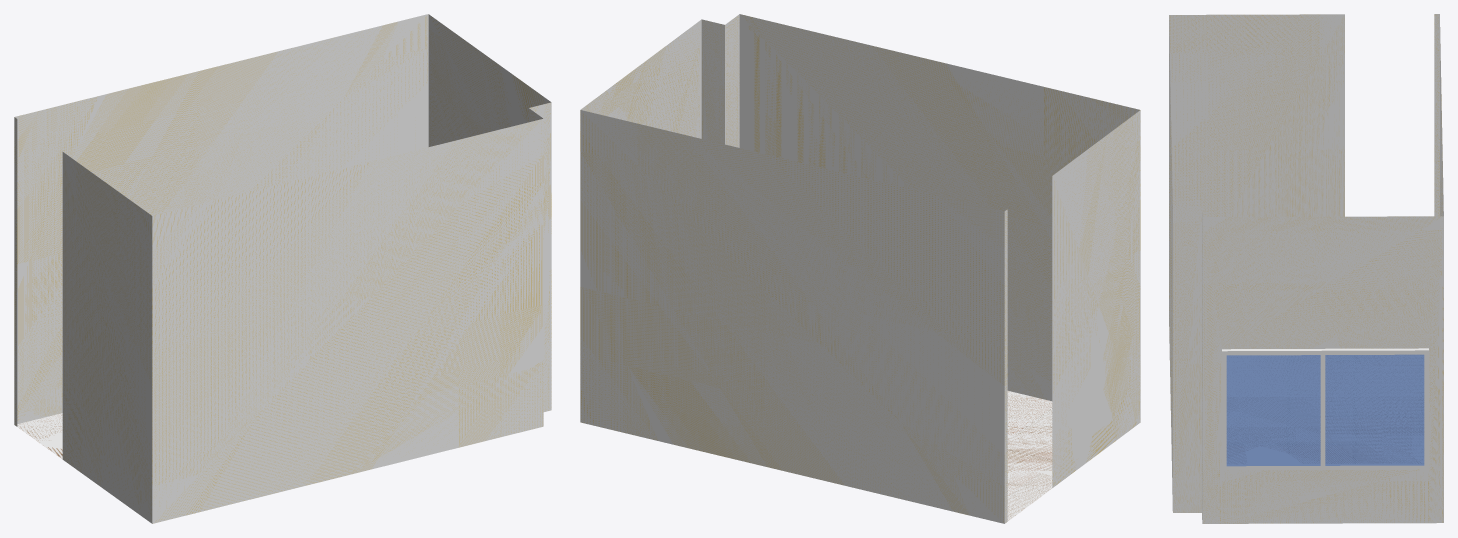
Rendered from DES005.obj.
The picture shows the model from 3 angles, left to right: view 1: azimuth 30°, elevation 25°; view 2: azimuth 150°, elevation 25°; view 3: azimuth 270°, elevation 25°; orthographic projection.
Parts seen in each view (by area): view 1: Mesh6 CUA05 Model; view 2: Mesh6 CUA05 Model; view 3: Mesh6 CUA05 Model, Mesh1 ventana2_1 CUA05 Model.
Boxes of the visible parts, box(x1,y1,x2,y2) form: Mesh6 CUA05 Model: box(14, 14, 551, 523); Mesh6 CUA05 Model: box(580, 14, 1140, 523); Mesh6 CUA05 Model: box(1169, 14, 1443, 523); Mesh1 ventana2_1 CUA05 Model: box(1222, 348, 1428, 470).
Bounding box in the file's own units: 5.16 × 3.6 × 2.92.
Materials: 5 (1 with a texture image).
